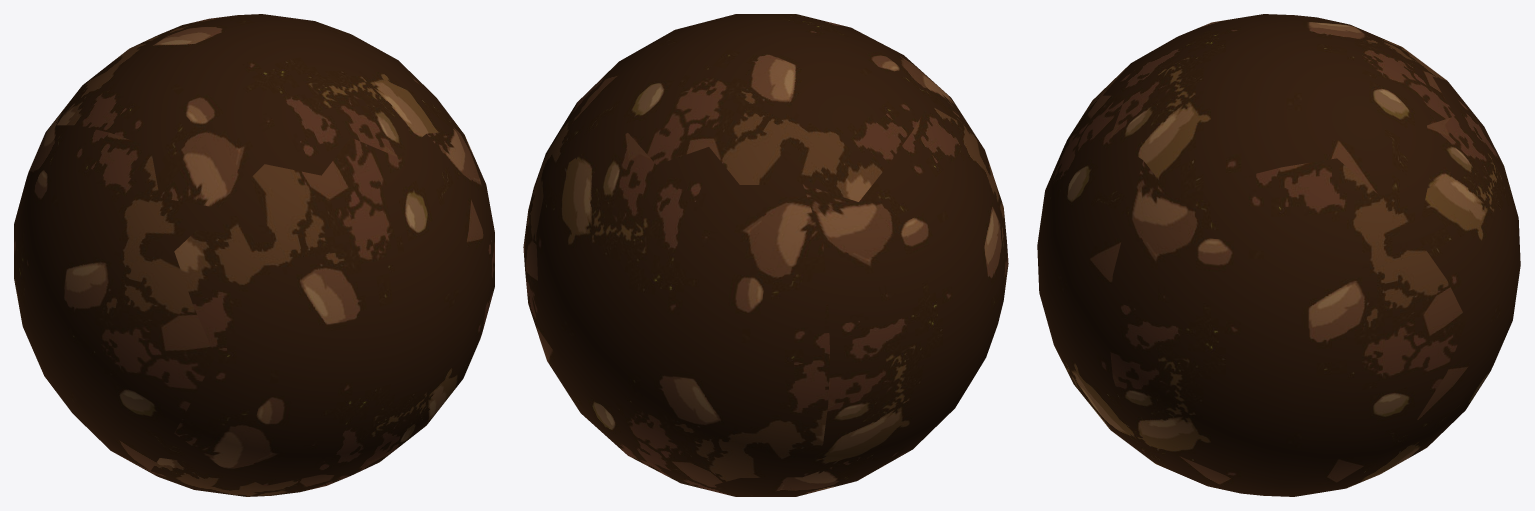
File: Rock.fbx
3 renders of one model, left to right at view 1: azimuth 30°, elevation 25°; view 2: azimuth 150°, elevation 25°; view 3: azimuth 270°, elevation 25°, orthographic.
Parts seen in each view (by area): view 1: GeoSphere001; view 2: GeoSphere001; view 3: GeoSphere001.
Boxes of the visible parts, bbox=[...] form: GeoSphere001: bbox=[14, 14, 494, 496]; GeoSphere001: bbox=[523, 14, 1008, 496]; GeoSphere001: bbox=[1037, 14, 1520, 496].
Size of the model in its own units: 55.12 by 54.78 by 54.86.
1 material, 1 textured.
